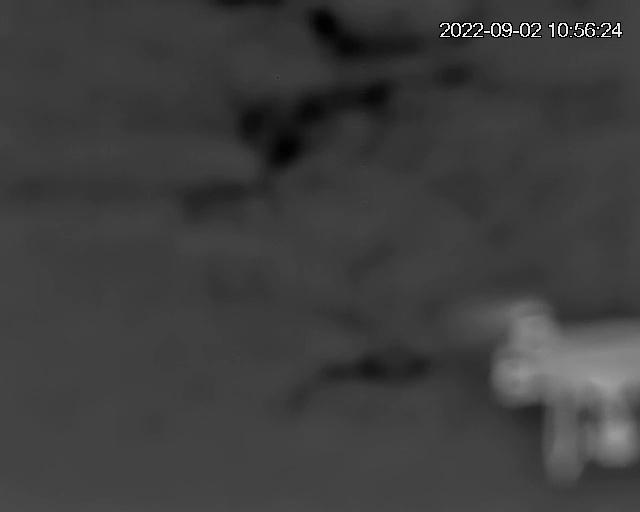DJI-Phantom: (498, 306, 640, 481)
